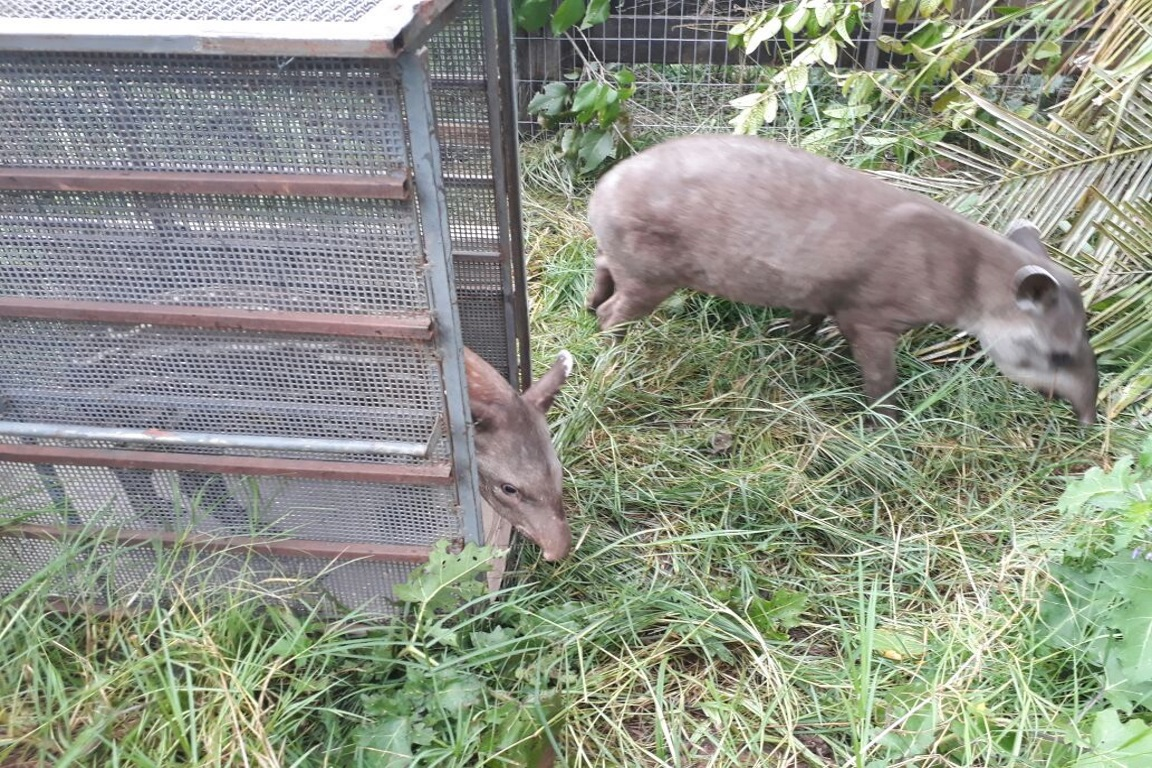Anta: (568, 116, 1114, 444), (455, 323, 596, 567)
